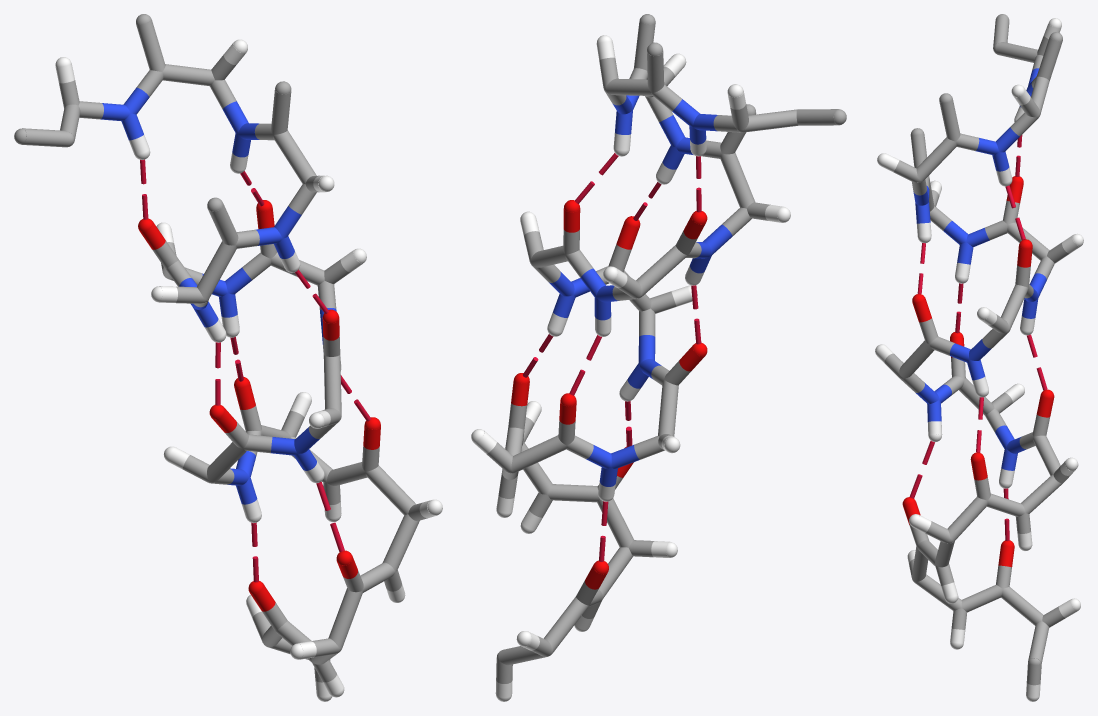
File: alpha-helix_hydrogen_bonding.glb
3 views of the same model, side by side, from view 1: azimuth 30°, elevation 25°; view 2: azimuth 150°, elevation 25°; view 3: azimuth 270°, elevation 25° (orthographic). The views are drawn at different scales.
Visible parts, largest first — view 1: primitive_color (×12); view 2: primitive_color (×13); view 3: primitive_color (×24).
Boxes of the visible parts, left/top/right/bottom form: primitive_color (×12): left=22, top=20, right=419, bottom=648; primitive_color (×13): left=511, top=21, right=838, bottom=653; primitive_color (×24): left=899, top=15, right=1062, bottom=662.
Size of the model in its own units: 10.43 by 19.07 by 6.01.
